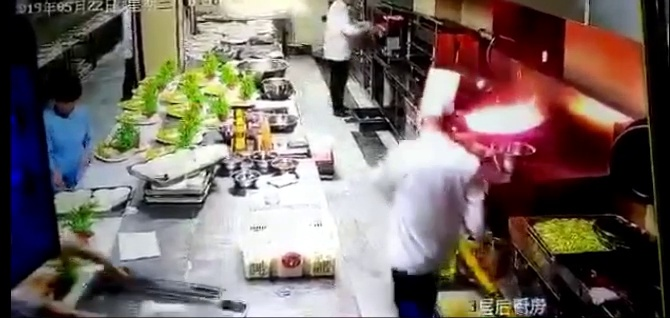fire: (471, 88, 543, 134)
